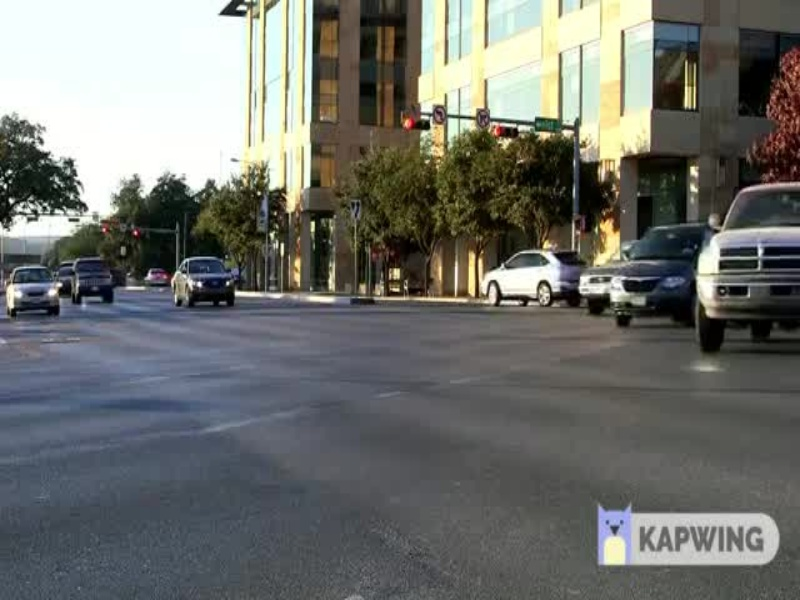car: (6, 256, 74, 316), (167, 253, 235, 308)
suv: (472, 246, 587, 309)
truck: (688, 172, 800, 369)
van: (602, 218, 714, 337)
